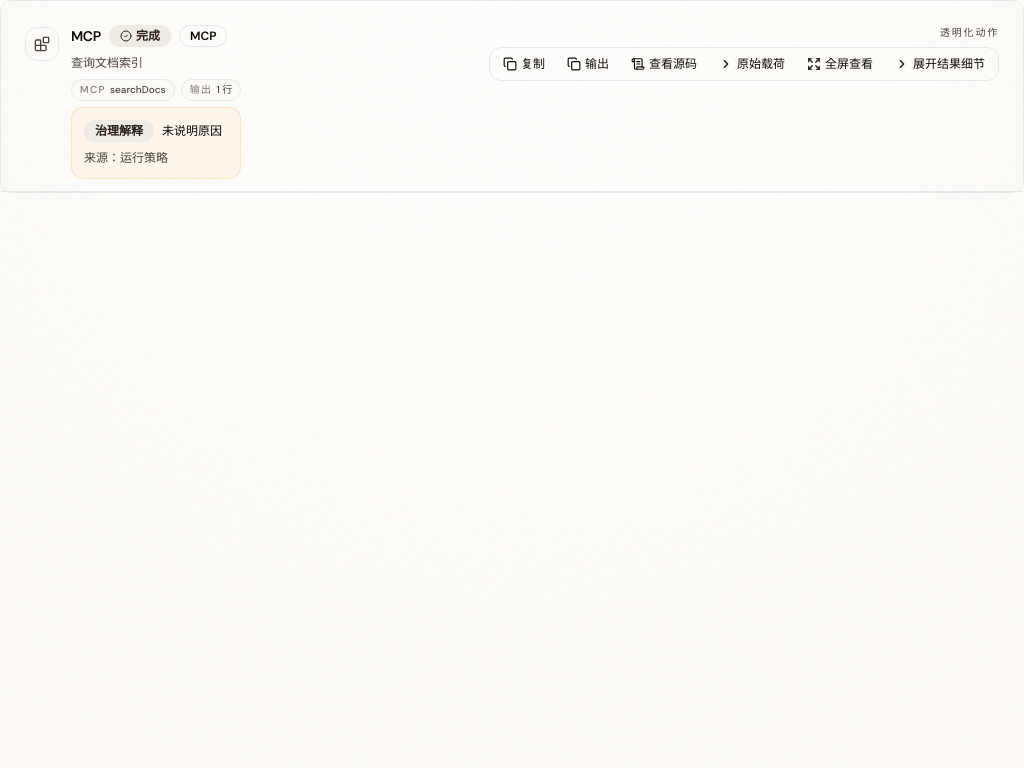
ToolCallBlock › reveals raw payload when requested
Expected: the text "docs-registry" is not shown
Click the button with aria-label "查看原始载荷" at (752,64), box [710, 52, 794, 76]
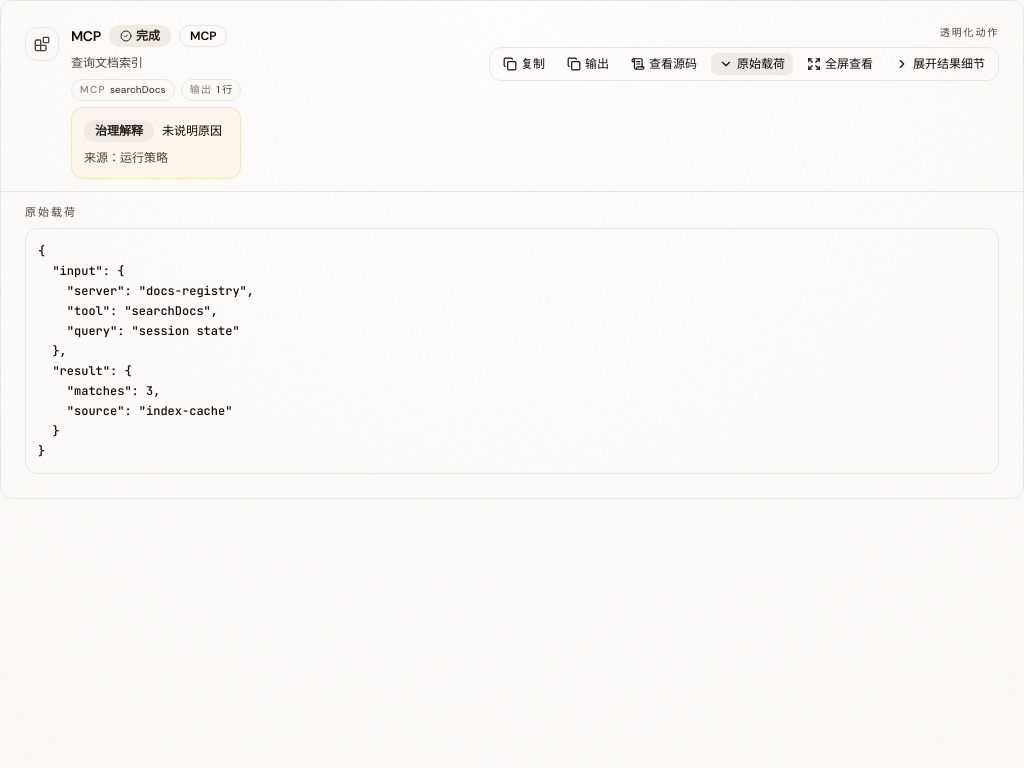
Expected: the button with aria-label "收起原始载荷" is shown, [710, 52, 794, 76]
Expected: the text "\"source\": \"index-cache\"" is shown, [38, 243, 254, 459]
